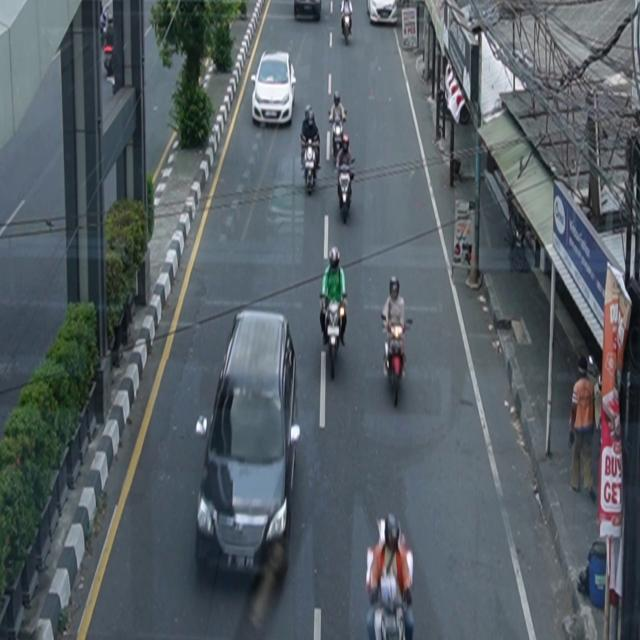car: (195, 309, 302, 580), (252, 51, 298, 127), (367, 1, 398, 26), (295, 1, 323, 22)
